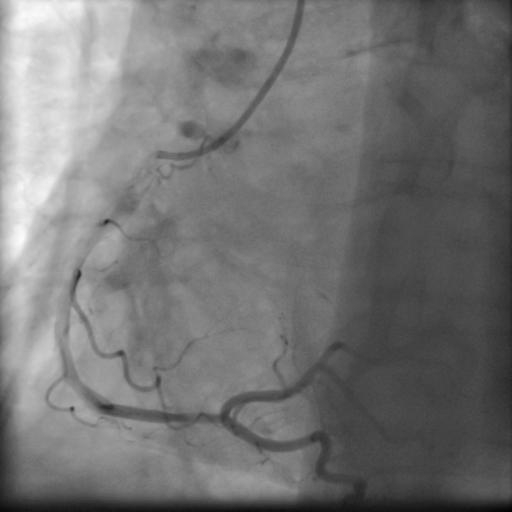Stenosis: (168, 404, 226, 429)
